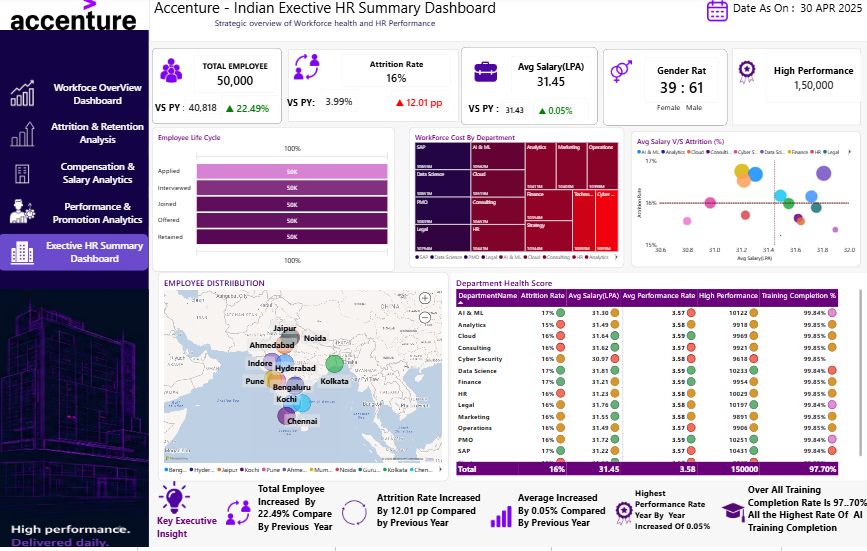

The dashboard page shown, as its layout file describes it:
{"tool":"powerbi","page":{"name":"Exective HR Summary Dashboard ","canvas":[2500,1580],"ordinal":4},"visuals":[{"type":"shape","box":[0,0,432.9,94.8],"z":0,"group":"g2"},{"type":"shape","box":[432.9,0,2066.6,129.6],"z":0,"group":"g4"},{"type":"shape","box":[0,94.8,432.9,1485.2],"z":0,"group":"g1"},{"type":"shape","box":[1330.4,142.2,391.8,224.4],"z":0,"group":"g7"},{"type":"shape","box":[442.4,145.4,372.9,218],"z":0,"group":"g5"},{"type":"shape","box":[2110,146,369.6,222],"z":0,"group":"g8"},{"type":"shape","box":[1738,148.5,356.7,220],"z":0,"group":"g3"},{"type":"shape","box":[833.4,150.5,489.8,208.6],"z":0,"group":"g6"},{"type":"image","box":[460.9,1389.7,94.3,94.3],"z":0,"group":"g9"},{"type":"image","box":[0,0,432.9,94.8],"z":1000,"group":"g2"},{"type":"textbox","box":[432.9,0,1011.2,129.6],"z":1000,"group":"g4"},{"type":"image","box":[463.4,157.9,69.9,105.9],"z":1000,"group":"g5"},{"type":"image","box":[1366,158.5,71.4,107.1],"z":1000,"group":"g7"},{"type":"image","box":[1759.1,160.5,64.8,107.4],"z":1000,"group":"g3"},{"type":"image","box":[2119.5,164.1,69.2,104.2],"z":1000,"group":"g8"},{"type":"image","box":[834.2,164.3,101.1,72.7],"z":1000,"group":"g6"},{"type":"pageNavigator","box":[0,224.4,432.9,565.6],"z":1000,"group":"g1"},{"type":"textbox","box":[457.4,1484,185.1,94.3],"z":1000,"group":"g9"},{"type":"textbox","box":[2110.9,9.5,388.7,60],"z":2000,"group":"g4"},{"type":"cardVisual","fields":{"Data":["ALL_Measure_Page4.High Performance"]},"box":[2207,156.7,273,146.8],"z":2000,"group":"g8"},{"type":"cardVisual","fields":{"Data":["ALL_Measure_Page1.Attrition Rate"]},"box":[986,163.5,312.8,94.8],"z":2000,"group":"g6"},{"type":"cardVisual","fields":{"Data":["ALL_Measure_Page1.TOTAL EMPLOYEE"]},"box":[563.7,165.2,235,109],"z":2000,"group":"g5"},{"type":"cardVisual","fields":{"Data":["All_Measure_Page3.Avg Salary(LPA)"]},"box":[1473.1,168,228.6,107.1],"z":2000,"group":"g7"},{"type":"cardVisual","fields":{"Data":["ALL_Measure_Page1.Gender Rat"]},"box":[1855.5,171,214.5,132.5],"z":2000,"group":"g3"},{"type":"image","box":[31.6,233.8,75.8,85.3],"z":2000,"group":"g1"},{"type":"image","box":[656.4,1438.6,69.8,83.8],"z":2000,"group":"g9"},{"type":"image","box":[2035,0,60,79],"z":3000,"group":"g4"},{"type":"textbox","box":[829.4,284.7,116.9,47.4],"z":3000,"group":"g6"},{"type":"textbox","box":[450.7,296.5,104.5,64.4],"z":3000,"group":"g5"},{"type":"textbox","box":[1343.5,300.5,120.6,64.8],"z":3000,"group":"g7"},{"type":"textbox","box":[1892.7,301,82.5,42.5],"z":3000,"group":"g3"},{"type":"image","box":[31.6,350.8,75.8,85.3],"z":3000,"group":"g1"},{"type":"textbox","box":[747.2,1393.2,237.4,188.5],"z":3000,"group":"g9"},{"type":"cardVisual","fields":{"Data":["ALL_Measure_Page1.Previous Year Attrition"]},"box":[926,265.7,107.4,66.4],"z":4000,"group":"g6"},{"type":"cardVisual","fields":{"Data":["ALL_Measure_Page1.Previous Year Employee"]},"box":[533.9,293.1,122.5,42.5],"z":4000,"group":"g5"},{"type":"cardVisual","fields":{"Data":["All_Measure_Page3.Salary Previous"]},"box":[1445.8,300.5,94.4,39.9],"z":4000,"group":"g7"},{"type":"textbox","box":[1975.1,301,72.2,47.5],"z":4000,"group":"g3"},{"type":"image","box":[31.6,464.5,75.8,85.3],"z":4000,"group":"g1"},{"type":"image","box":[988.1,1438.6,69.8,83.8],"z":4000,"group":"g9"},{"type":"image","box":[0,837.4,432.9,742.6],"z":4500,"group":"g1"},{"type":"cardVisual","fields":{"Data":["ALL_Measure_Page1.Difference Attrition"]},"box":[1129,268.9,167.5,63.2],"z":5000,"group":"g6"},{"type":"cardVisual","fields":{"Data":["ALL_Measure_Page1.Employee Difference"]},"box":[641.4,280.6,167.5,70],"z":5000,"group":"g5"},{"type":"cardVisual","fields":{"Data":["All_Measure_Page3.Difference Salary"]},"box":[1540.2,288,157.3,67.3],"z":5000,"group":"g7"},{"type":"image","box":[31.6,572,75.8,85.3],"z":5000,"group":"g1"},{"type":"textbox","box":[1089.4,1417.6,310.8,164.1],"z":5000,"group":"g9"},{"type":"image","box":[31.6,692,75.8,85.3],"z":6000,"group":"g1"},{"type":"image","box":[1410.6,1449.1,69.8,83.8],"z":6000,"group":"g9"},{"type":"textbox","box":[1494.4,1417.6,258.4,143.2],"z":7000,"group":"g9"},{"type":"funnel","title":"Employee Life Cycle","fields":{"Category":["FactRecruitment.Stage"],"Y":["ALL_Measure_Page1.TOTAL EMPLOYEE"]},"box":[443.4,373.6,698.3,415.5],"z":8000},{"type":"image","box":[1763.3,1442.1,69.8,83.8],"z":8000,"group":"g9"},{"type":"treemap","title":"WorkForce Cost By Department","fields":{"Group":["DimDepartment.DepartmentName"],"Values":["Sum(FactWorkforce.CurrentSalary)"]},"box":[1180.2,373.6,618,405],"z":9000},{"type":"textbox","box":[1829.6,1407.2,233.9,164.1],"z":9000,"group":"g9"},{"type":"scatterChart","title":"Avg Salary V/S Attrition (%)","fields":{"Category":["DimDepartment.DepartmentName"],"Series":["DimDepartment.DepartmentName"],"Size":["ALL_Measure_Page1.Attrition Rate"],"X":["All_Measure_Page3.Avg Salary(LPA)"],"Y":["ALL_Measure_Page1.Attrition Rate"]},"box":[1819.1,384.1,659.9,391.1],"z":10000},{"type":"image","box":[2077.5,1438.6,69.8,83.8],"z":10000,"group":"g9"},{"type":"map","title":"EMPLOYEE DISTRIIBUTION","fields":{"Category":["DimLocation.City"],"Series":["DimLocation.City"],"Size":["ALL_Measure_Page1.TOTAL EMPLOYEE"]},"box":[460.9,789.1,834.5,600.6],"z":11000},{"type":"textbox","box":[2154.3,1396.7,345.7,164.1],"z":11000,"group":"g9"},{"type":"tableEx","title":"Department Health Score","fields":{"Values":["DimDepartment.DepartmentName","ALL_Measure_Page1.Attrition Rate","All_Measure_Page3.Avg Salary(LPA)","ALL_Measure_Page4.Avg Performance Rate","ALL_Measure_Page4.High Performance","ALL_Measure_Page4.Training Completion %"]},"box":[1298.9,789.1,1201.1,600.6],"z":12000},{"type":"group","id":"g1","title":"Left Pane","box":[0,94.8,432.9,1485.2],"z":12250},{"type":"group","id":"g2","title":"Logo","box":[0,0,432.9,94.8],"z":12500},{"type":"group","id":"g3","title":"GENDER RATE","box":[1738,148.5,357.1,221.2],"z":13000},{"type":"group","id":"g4","title":"Top Pane","box":[432.9,0,2066.6,129.6],"z":13031},{"type":"group","id":"g5","title":"Total Employee ","box":[442.4,145.4,372.9,218],"z":13062},{"type":"group","id":"g6","title":"Attrition Rate","box":[829.4,150.5,493.8,208.6],"z":13125},{"type":"group","id":"g7","title":"Avg Salary","box":[1330.4,142.2,391.8,224.4],"z":13250},{"type":"group","id":"g8","title":"High Performance","box":[2110,146,370,222],"z":13500},{"type":"group","id":"g9","title":"Key Insight","box":[457.4,1389.7,2042.6,192],"z":14000}]}

Visuals, with their boxes on the page's 2500x1580 design canvas (x1, y1, x2, y2). These are canvas units, not pixel positions in the 867x551 screenshot, which may show the page scaled, cropped or inside an application window:
shape: bbox=[0, 0, 433, 95]
shape: bbox=[433, 0, 2500, 130]
shape: bbox=[0, 95, 433, 1580]
shape: bbox=[1330, 142, 1722, 367]
shape: bbox=[442, 145, 815, 363]
shape: bbox=[2110, 146, 2480, 368]
shape: bbox=[1738, 148, 2095, 368]
shape: bbox=[833, 150, 1323, 359]
image: bbox=[461, 1390, 555, 1484]
image: bbox=[0, 0, 433, 95]
textbox: bbox=[433, 0, 1444, 130]
image: bbox=[463, 158, 533, 264]
image: bbox=[1366, 158, 1437, 266]
image: bbox=[1759, 160, 1824, 268]
image: bbox=[2120, 164, 2189, 268]
image: bbox=[834, 164, 935, 237]
pageNavigator: bbox=[0, 224, 433, 790]
textbox: bbox=[457, 1484, 642, 1578]
textbox: bbox=[2111, 10, 2500, 70]
cardVisual - ALL_Measure_Page4.High Performance: bbox=[2207, 157, 2480, 304]
cardVisual - ALL_Measure_Page1.Attrition Rate: bbox=[986, 164, 1299, 258]
cardVisual - ALL_Measure_Page1.TOTAL EMPLOYEE: bbox=[564, 165, 799, 274]
cardVisual - All_Measure_Page3.Avg Salary(LPA): bbox=[1473, 168, 1702, 275]
cardVisual - ALL_Measure_Page1.Gender Rat: bbox=[1856, 171, 2070, 304]
image: bbox=[32, 234, 107, 319]
image: bbox=[656, 1439, 726, 1522]
image: bbox=[2035, 0, 2095, 79]
textbox: bbox=[829, 285, 946, 332]
textbox: bbox=[451, 296, 555, 361]
textbox: bbox=[1344, 300, 1464, 365]
textbox: bbox=[1893, 301, 1975, 344]
image: bbox=[32, 351, 107, 436]
textbox: bbox=[747, 1393, 985, 1582]
cardVisual - ALL_Measure_Page1.Previous Year Attrition: bbox=[926, 266, 1033, 332]
cardVisual - ALL_Measure_Page1.Previous Year Employee: bbox=[534, 293, 656, 336]
cardVisual - All_Measure_Page3.Salary Previous: bbox=[1446, 300, 1540, 340]
textbox: bbox=[1975, 301, 2047, 348]
image: bbox=[32, 464, 107, 550]
image: bbox=[988, 1439, 1058, 1522]
image: bbox=[0, 837, 433, 1580]
cardVisual - ALL_Measure_Page1.Difference Attrition: bbox=[1129, 269, 1296, 332]
cardVisual - ALL_Measure_Page1.Employee Difference: bbox=[641, 281, 809, 351]
cardVisual - All_Measure_Page3.Difference Salary: bbox=[1540, 288, 1698, 355]
image: bbox=[32, 572, 107, 657]
textbox: bbox=[1089, 1418, 1400, 1582]
image: bbox=[32, 692, 107, 777]
image: bbox=[1411, 1449, 1480, 1533]
textbox: bbox=[1494, 1418, 1753, 1561]
"Employee Life Cycle" funnel: bbox=[443, 374, 1142, 789]
image: bbox=[1763, 1442, 1833, 1526]
"WorkForce Cost By Department" treemap: bbox=[1180, 374, 1798, 779]
textbox: bbox=[1830, 1407, 2064, 1571]
"Avg Salary V/S Attrition (%)" scatterChart: bbox=[1819, 384, 2479, 775]
image: bbox=[2078, 1439, 2147, 1522]
"EMPLOYEE DISTRIIBUTION" map: bbox=[461, 789, 1295, 1390]
textbox: bbox=[2154, 1397, 2500, 1561]
"Department Health Score" tableEx: bbox=[1299, 789, 2500, 1390]
"Left Pane" group: bbox=[0, 95, 433, 1580]
"Logo" group: bbox=[0, 0, 433, 95]
"GENDER RATE" group: bbox=[1738, 148, 2095, 370]
"Top Pane" group: bbox=[433, 0, 2500, 130]
"Total Employee " group: bbox=[442, 145, 815, 363]
"Attrition Rate" group: bbox=[829, 150, 1323, 359]
"Avg Salary" group: bbox=[1330, 142, 1722, 367]
"High Performance" group: bbox=[2110, 146, 2480, 368]
"Key Insight" group: bbox=[457, 1390, 2500, 1582]
